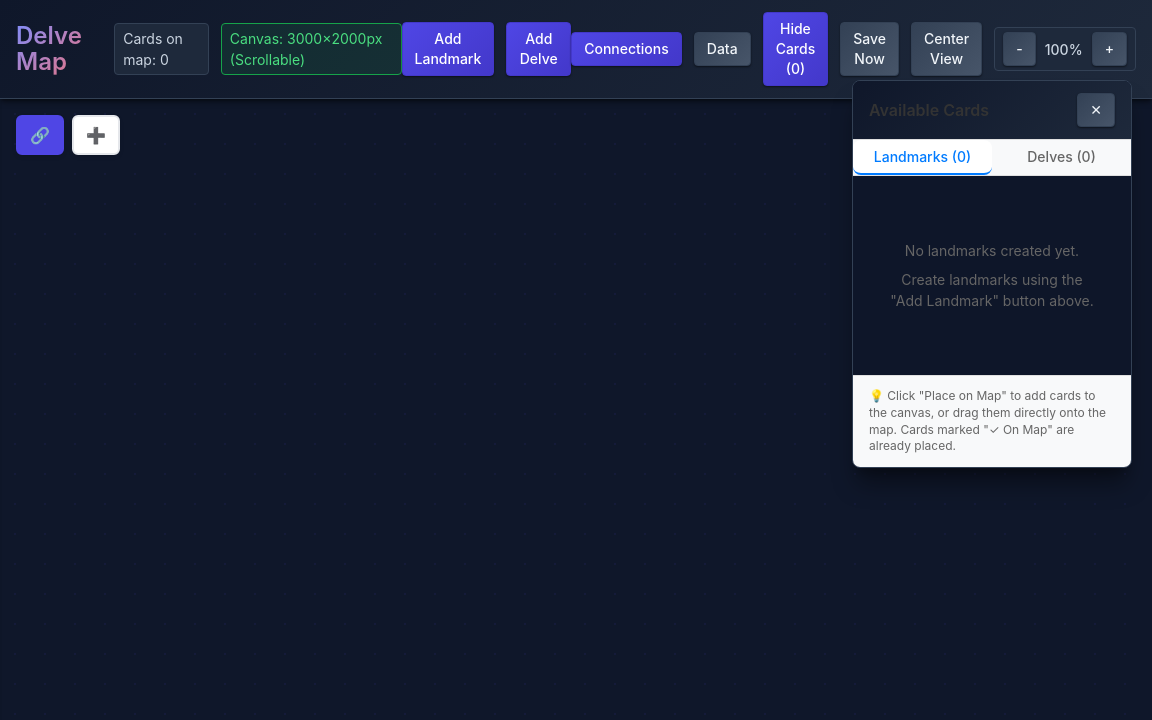
Test case: DelveMapPage › closes forms when cancel is clicked
# Open landmark form
What coordinates should you click on to do the following:
click the button "Add Landmark"
I would click on:
 (448, 49)
Its box is [402,22,494,76].
(page scrolled)
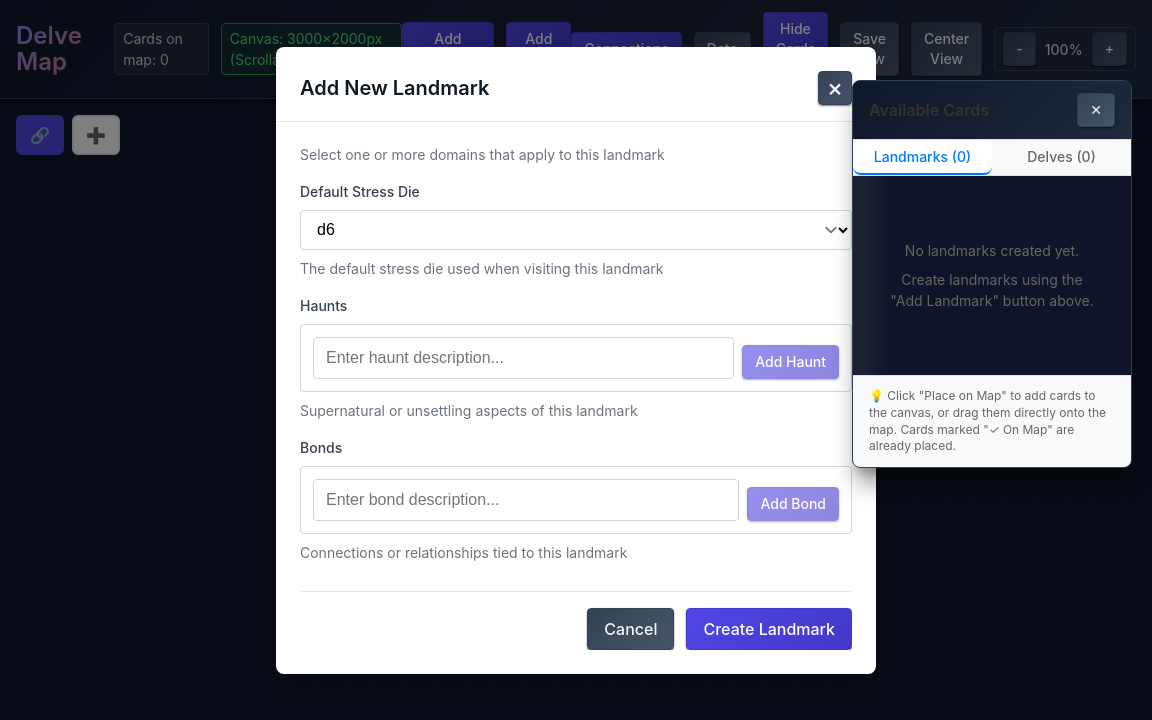
expect the heading "Add New Landmark" is shown: met, box [300,72,489,102]
# Close form
What coordinates should you click on to do the following:
click the button "Cancel"
I would click on:
 (631, 628)
Its box is [587,608,674,650].
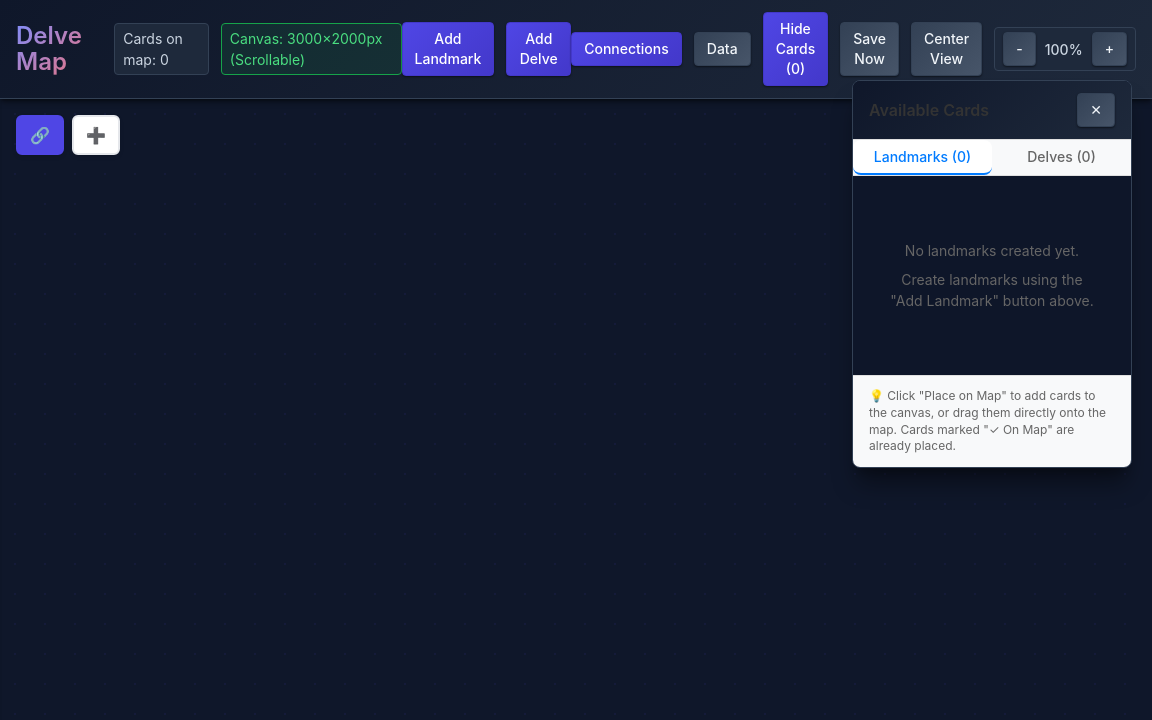
expect the heading "Add New Landmark" is gone: met
